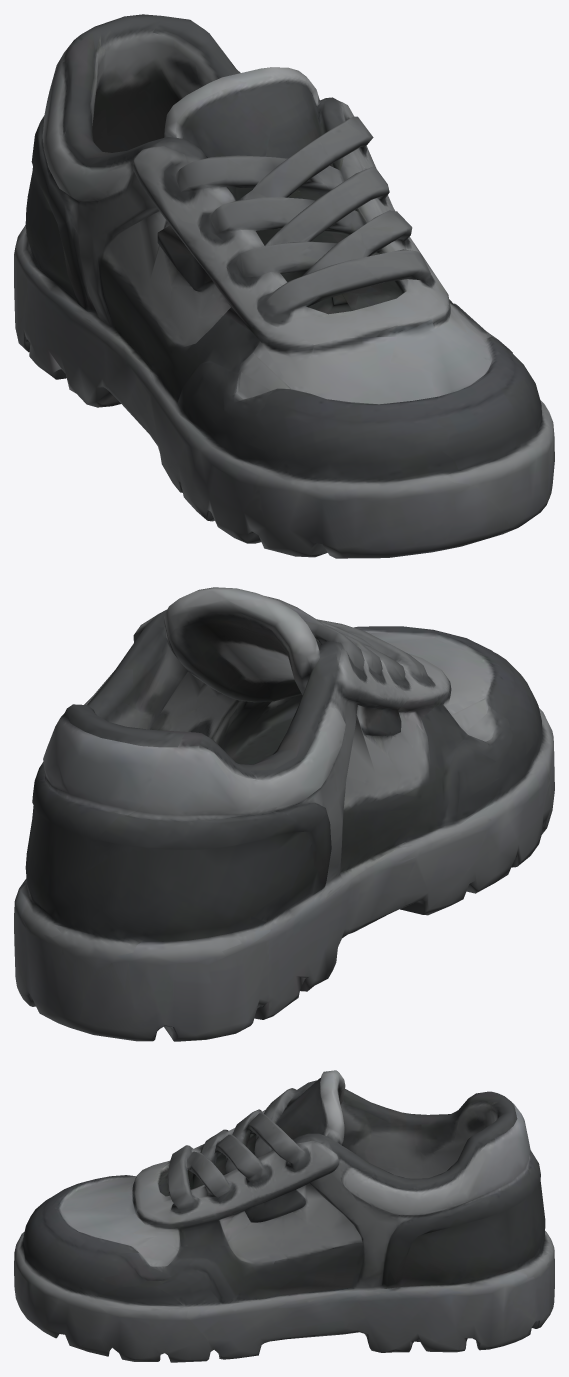
File: shoe-trainer.glb
The picture shows the model from 3 angles, top to bottom: view 1: azimuth 30°, elevation 25°; view 2: azimuth 150°, elevation 25°; view 3: azimuth 270°, elevation 25°; orthographic projection. The views are drawn at different scales.
Visible parts, largest first — view 1: shoe-trainer; view 2: shoe-trainer; view 3: shoe-trainer.
Boxes of the visible parts, x1,y1,x2,y2 form: shoe-trainer: (14, 14, 554, 558); shoe-trainer: (14, 587, 554, 1041); shoe-trainer: (14, 1070, 554, 1362).
Size of the model in its own units: 0.4641 by 0.474 by 1.
1 material, 1 textured.
